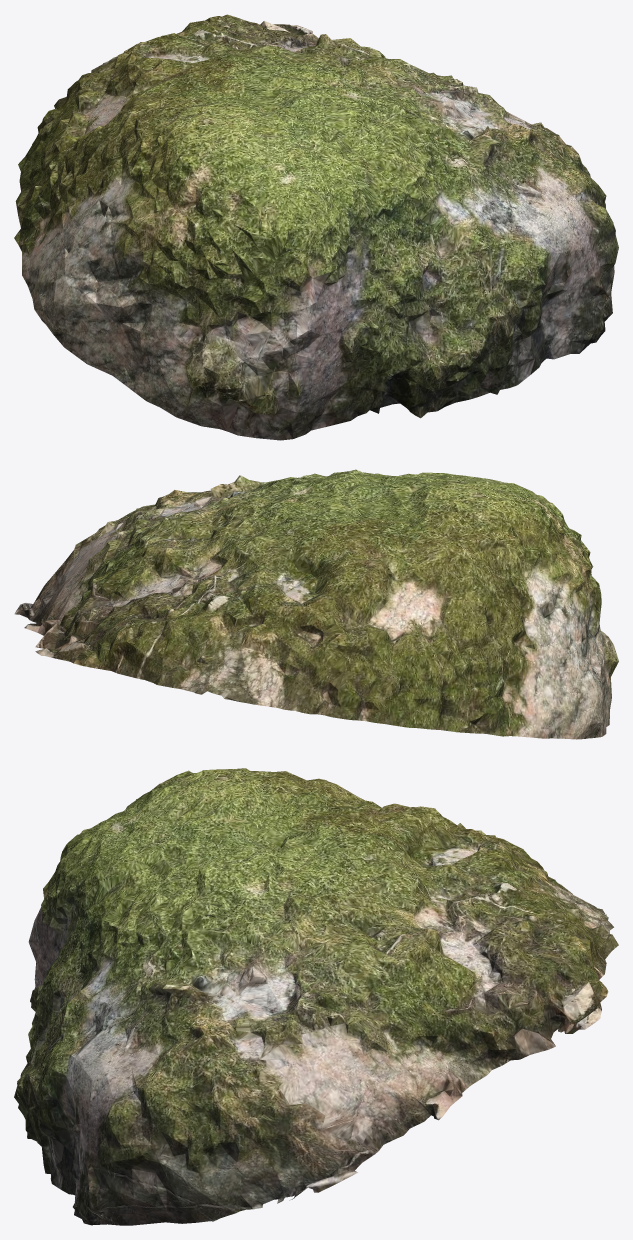
The model's file is mossy_stone.glb.
3 views of the same model, one above another, from view 1: azimuth 30°, elevation 25°; view 2: azimuth 150°, elevation 25°; view 3: azimuth 270°, elevation 25° (orthographic). The views are drawn at different scales.
Visible parts, largest first — view 1: dock; view 2: dock; view 3: dock.
Part boxes in pixels (x1,y1,x2,y2): dock: [14, 14, 618, 440]; dock: [14, 469, 618, 739]; dock: [14, 768, 618, 1225].
Size of the model in its own units: 2.12 by 0.9865 by 1.86.
1 material, 1 textured.
